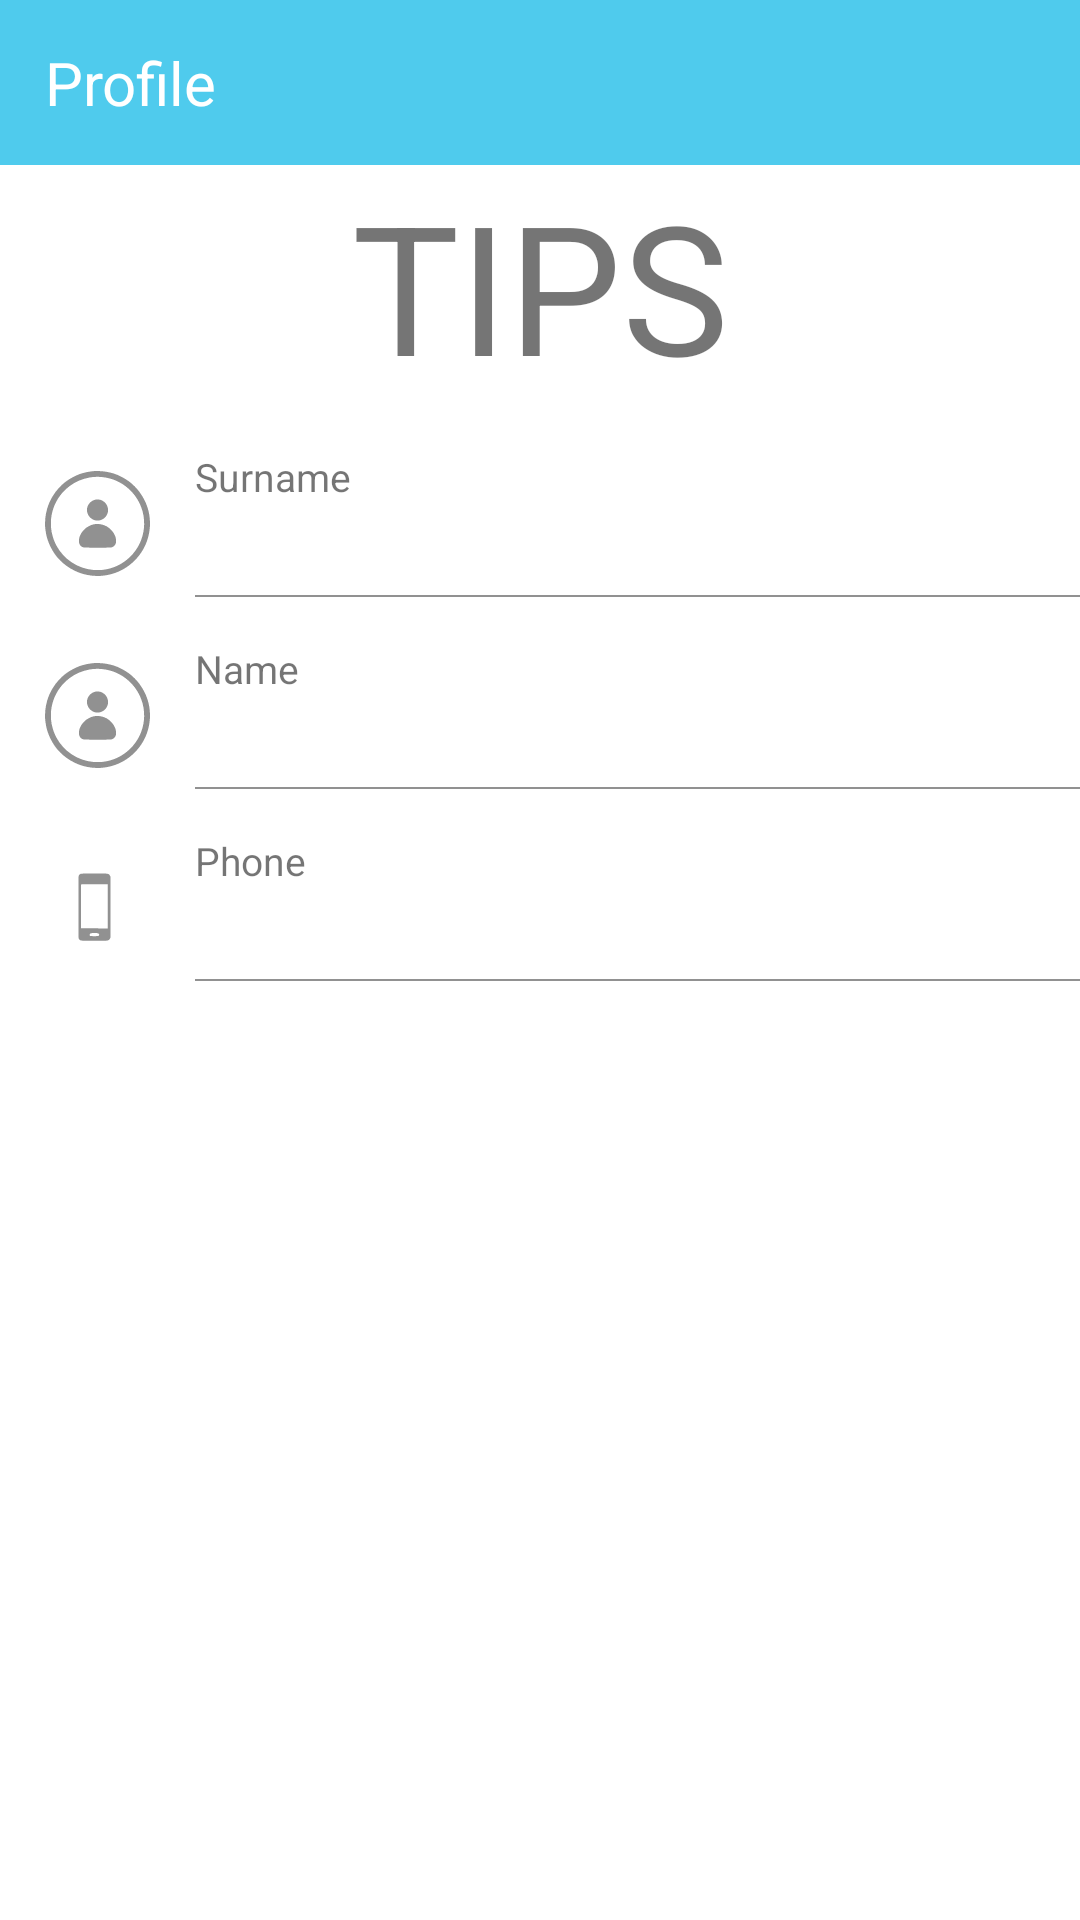

Named icons in this screenshot (1080x1920) and their centers, (x,y):
person: (97,523), (97,715)
